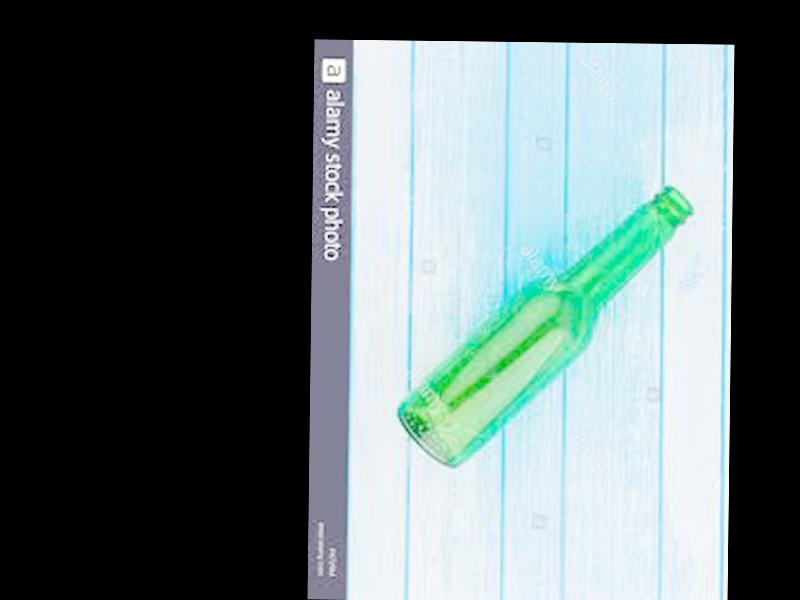Beer: (391, 179, 695, 474)
